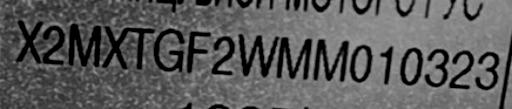letter: (236, 33, 280, 78), (274, 34, 312, 81), (311, 37, 349, 82), (66, 22, 102, 67), (152, 28, 186, 73), (100, 23, 130, 70), (128, 25, 156, 74), (14, 19, 44, 64), (422, 45, 450, 88), (446, 48, 474, 91), (473, 48, 501, 91), (186, 28, 212, 73), (348, 42, 376, 83), (40, 24, 66, 67), (210, 34, 236, 77), (399, 44, 423, 87), (377, 42, 395, 87)
